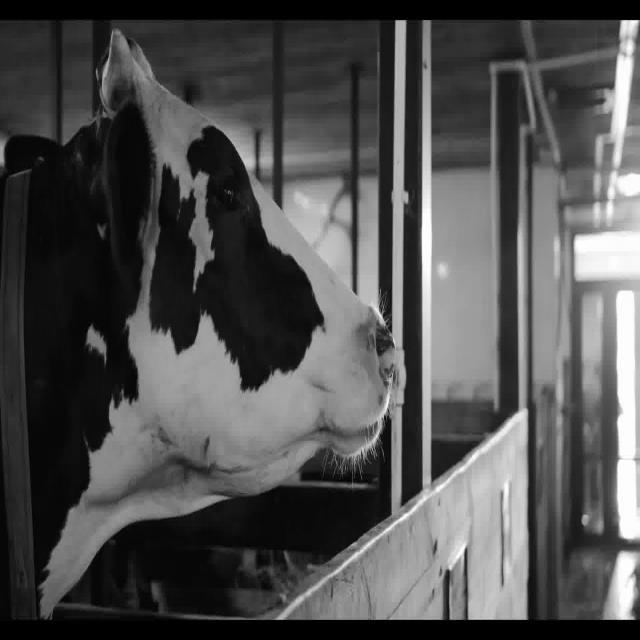cow: (25, 30, 395, 617)
